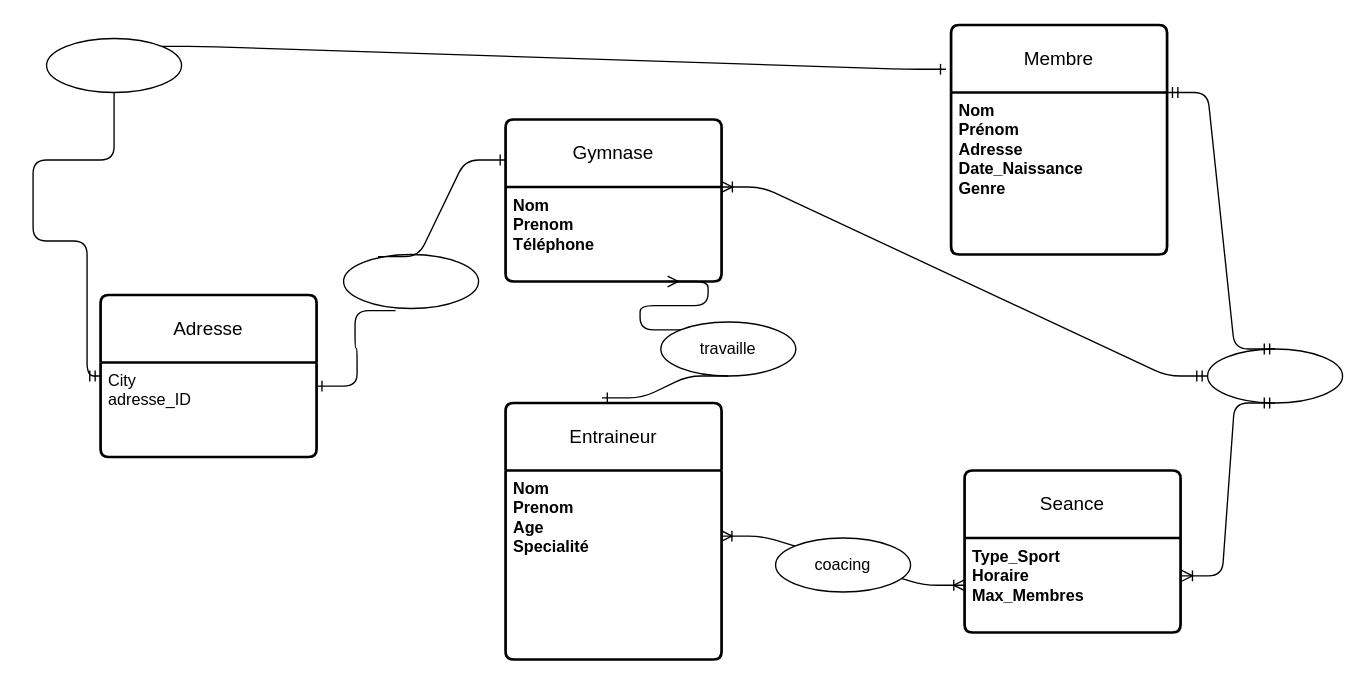
Some shapes in this 1366 by 683 pixel diagram are drawn without their labels. The centre of each missing label's shape, as x and y in pixels:
"ain benian" belongs at [113,64].
"register" belongs at [1274,375].
"val d'hydra" belongs at [410,280].
